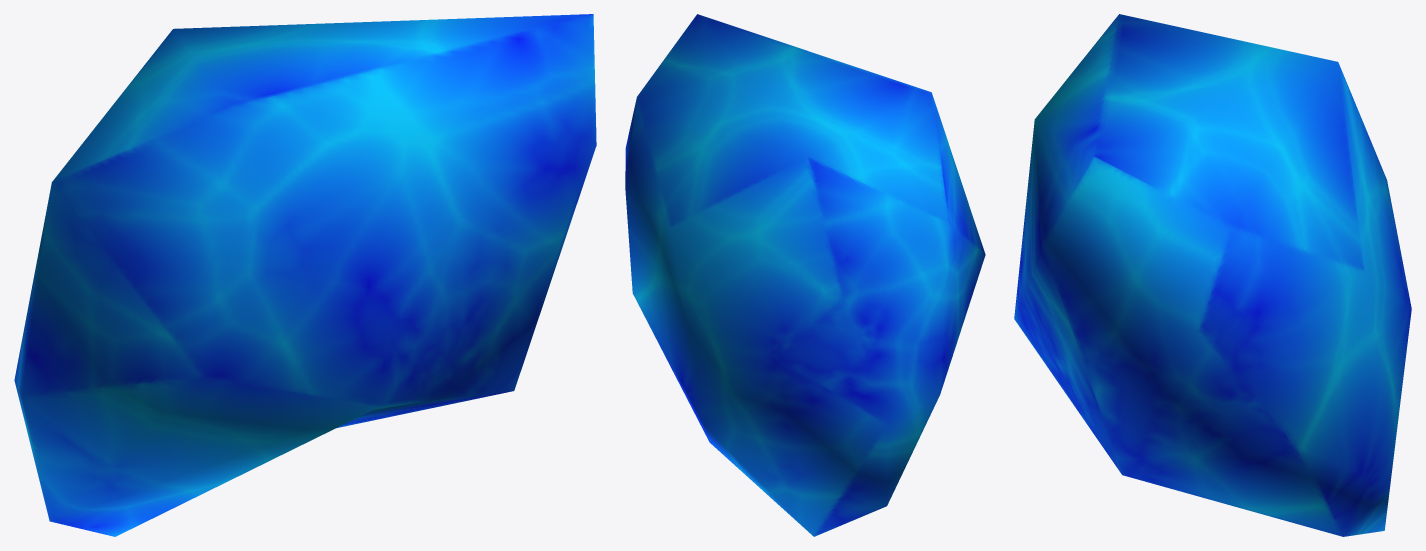
The model's file is WindstoneParticle.fbx.
3 renders of one model, left to right at view 1: azimuth 30°, elevation 25°; view 2: azimuth 150°, elevation 25°; view 3: azimuth 270°, elevation 25°, orthographic. The views are drawn at different scales.
Visible parts, largest first — view 1: WindstoneParticle.030; view 2: WindstoneParticle.030; view 3: WindstoneParticle.030.
Boxes of the visible parts, x1,y1,x2,y2 form: WindstoneParticle.030: [14, 14, 596, 536]; WindstoneParticle.030: [625, 14, 985, 536]; WindstoneParticle.030: [1014, 14, 1411, 536].
Bounding box in the file's own units: 135 × 141 × 97.86.
